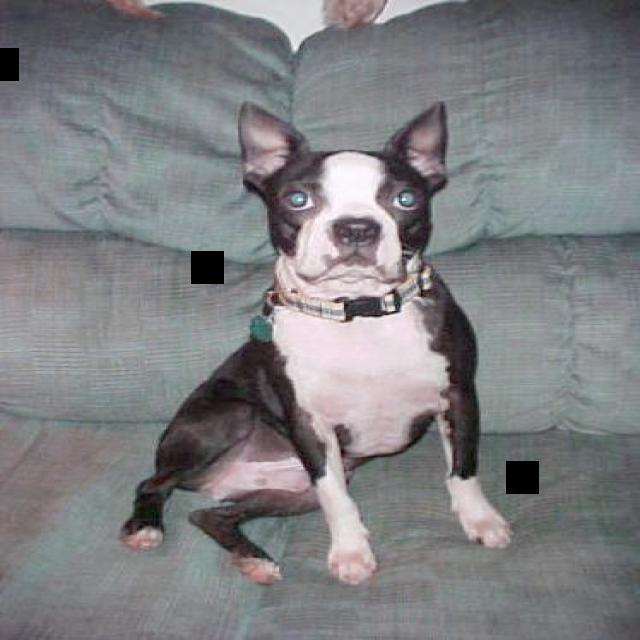adult_dog: (118, 102, 514, 586)
